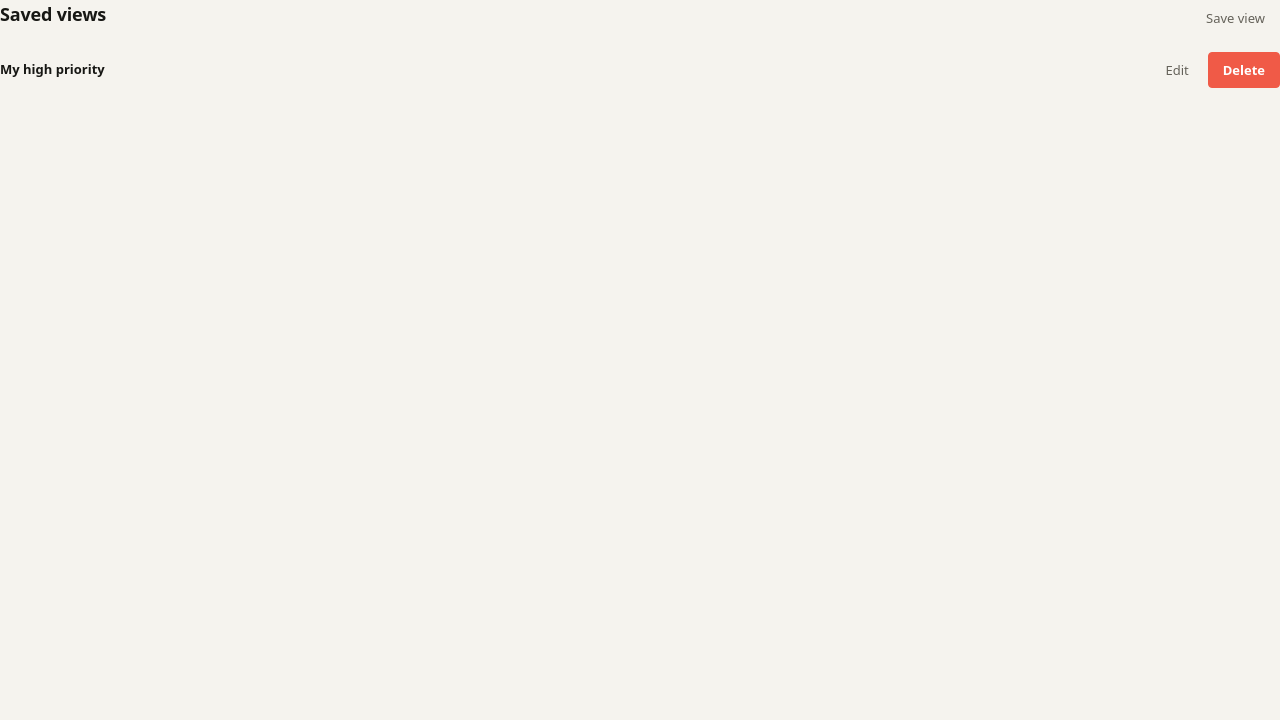
it: SavedViewsSection › surfaces a duplicate-name error inside the dialog
Click the button "Save view": (1236, 18) [1191, 0, 1279, 36]
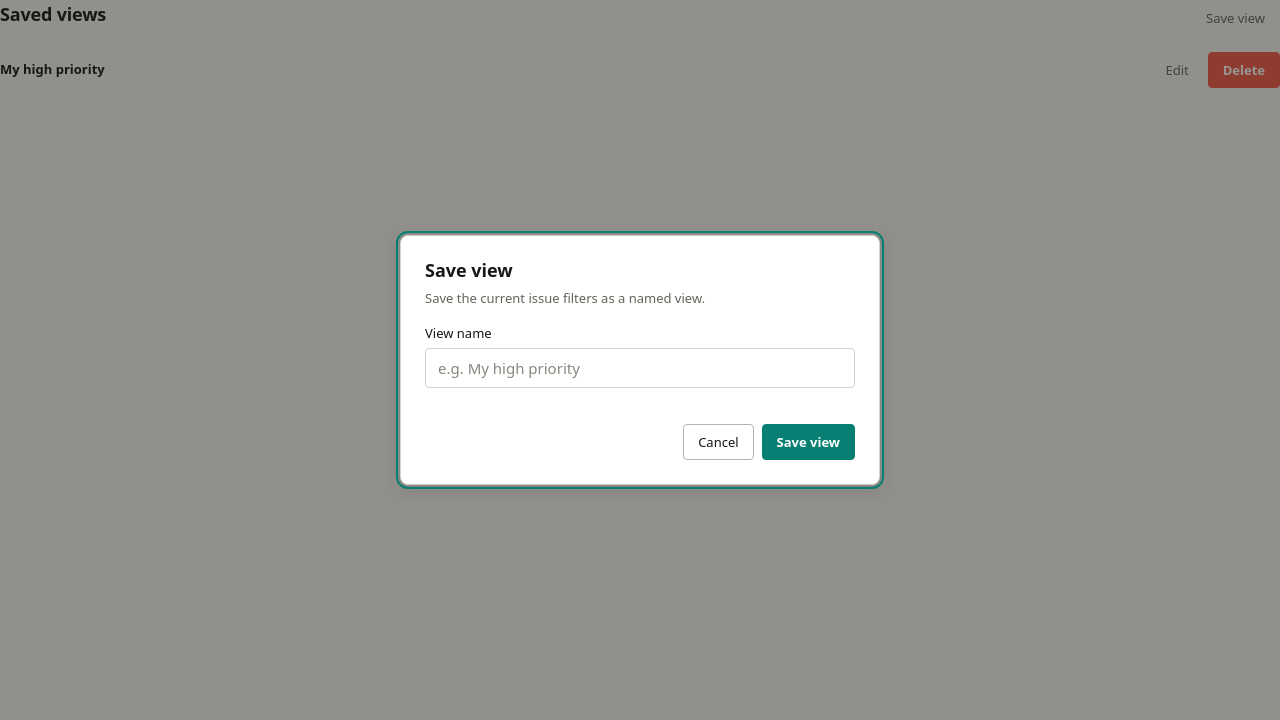
Check: the field labelled "View name" is shown
In the field labelled "View name": (640, 368) [425, 348, 855, 388], type "My high priority"
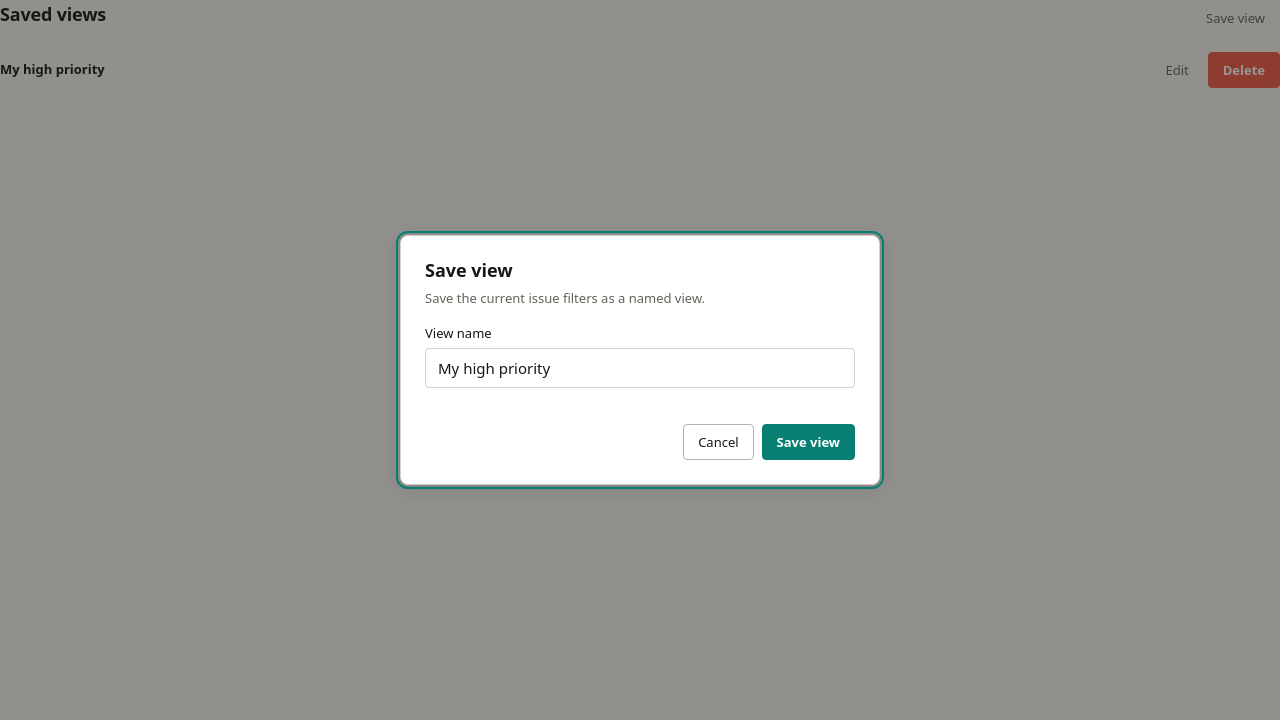
Click the button "Save view": (808, 442) [762, 424, 855, 460]
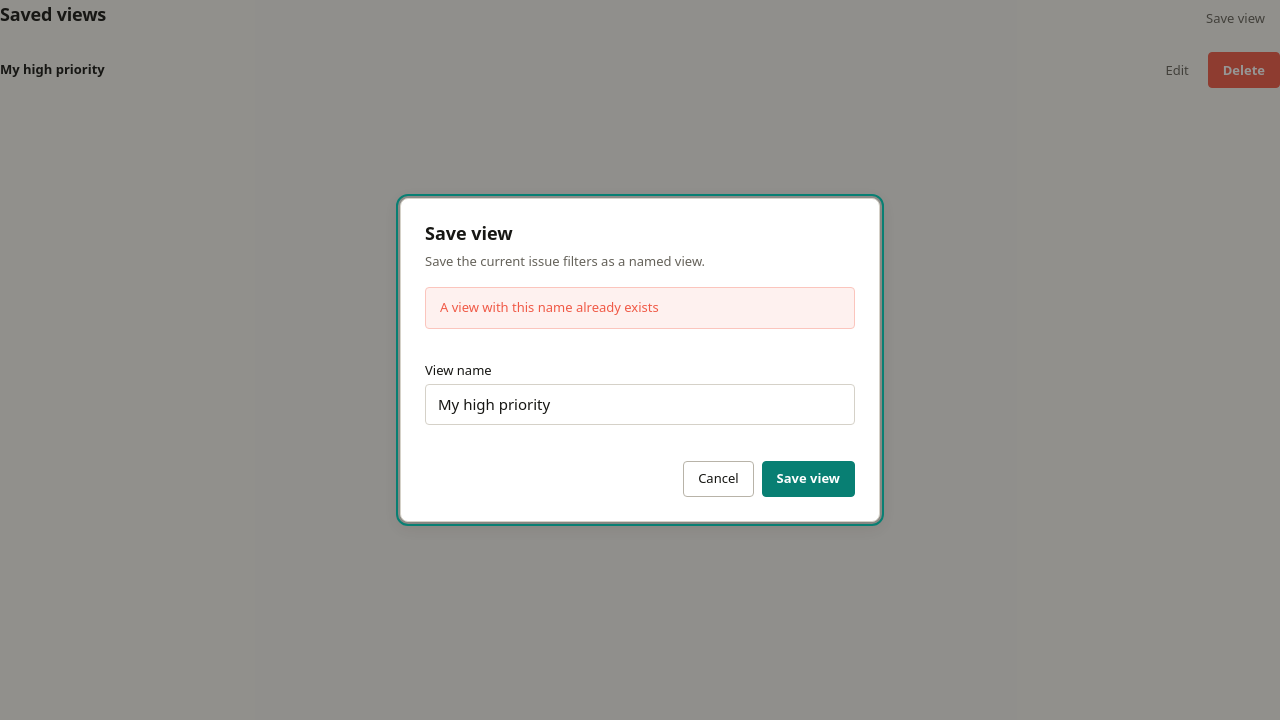
Check: the message reads "A view with this name already exists", box [440, 298, 659, 316]
